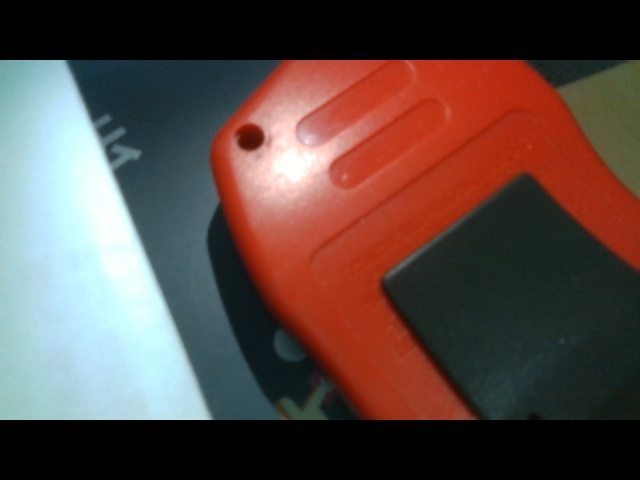Screw holes: (231, 119, 269, 153)
